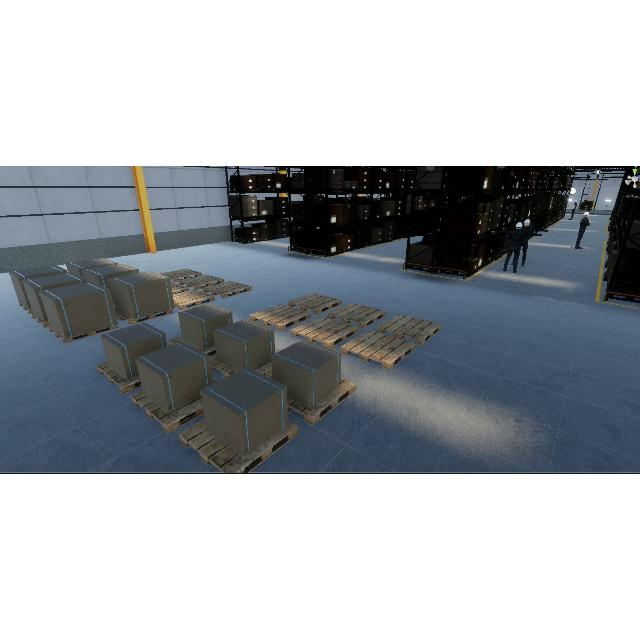wooden_pallet: (177, 419, 299, 474), (286, 375, 356, 425), (131, 390, 205, 434), (340, 329, 416, 369), (291, 316, 359, 349), (376, 312, 442, 345), (249, 303, 311, 331), (327, 301, 387, 329), (97, 361, 143, 393), (49, 323, 119, 344), (288, 292, 342, 314), (116, 308, 174, 324), (172, 289, 216, 310), (202, 281, 252, 298), (178, 274, 225, 290), (159, 268, 202, 282), (171, 281, 189, 295)
